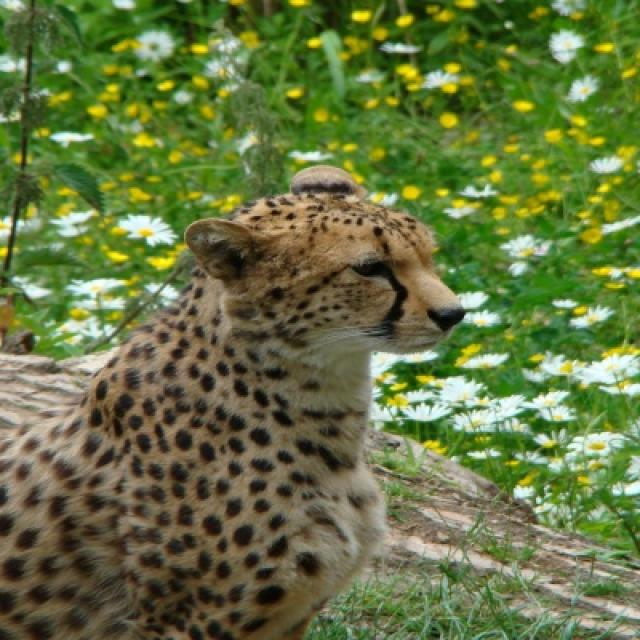Cheetah: (0, 165, 467, 638)
